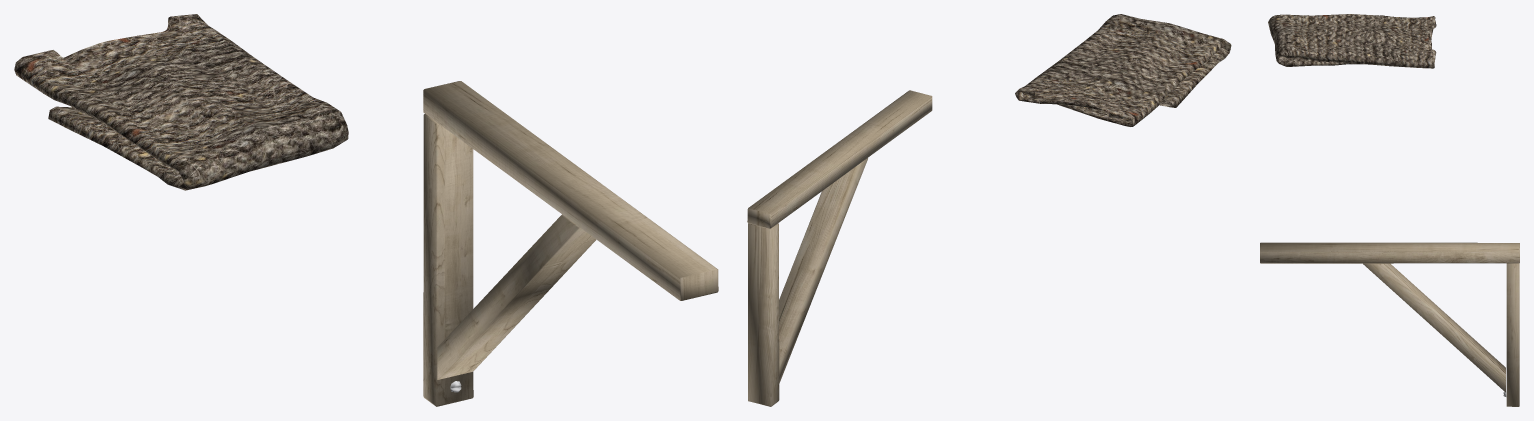
Rendered from rod-cloth4455.glb.
3 renders of one model, left to right at view 1: azimuth 30°, elevation 25°; view 2: azimuth 150°, elevation 25°; view 3: azimuth 270°, elevation 25°, orthographic. The views are drawn at different scales.
Parts seen in each view (by area): view 1: wood_hanger2.001, cloth4455.001; view 2: wood_hanger2.001, cloth4455.001; view 3: wood_hanger2.001, cloth4455.001.
Boxes of the visible parts, box(x1,y1,x2,y2) form: wood_hanger2.001: box(423, 81, 718, 406); cloth4455.001: box(14, 14, 348, 190); wood_hanger2.001: box(747, 90, 932, 406); cloth4455.001: box(1015, 14, 1231, 126); wood_hanger2.001: box(1260, 242, 1519, 406); cloth4455.001: box(1268, 14, 1436, 68).
Size of the model in its own units: 0.4894 by 0.4581 by 0.3993.
Materials: 3 (2 with a texture image).
